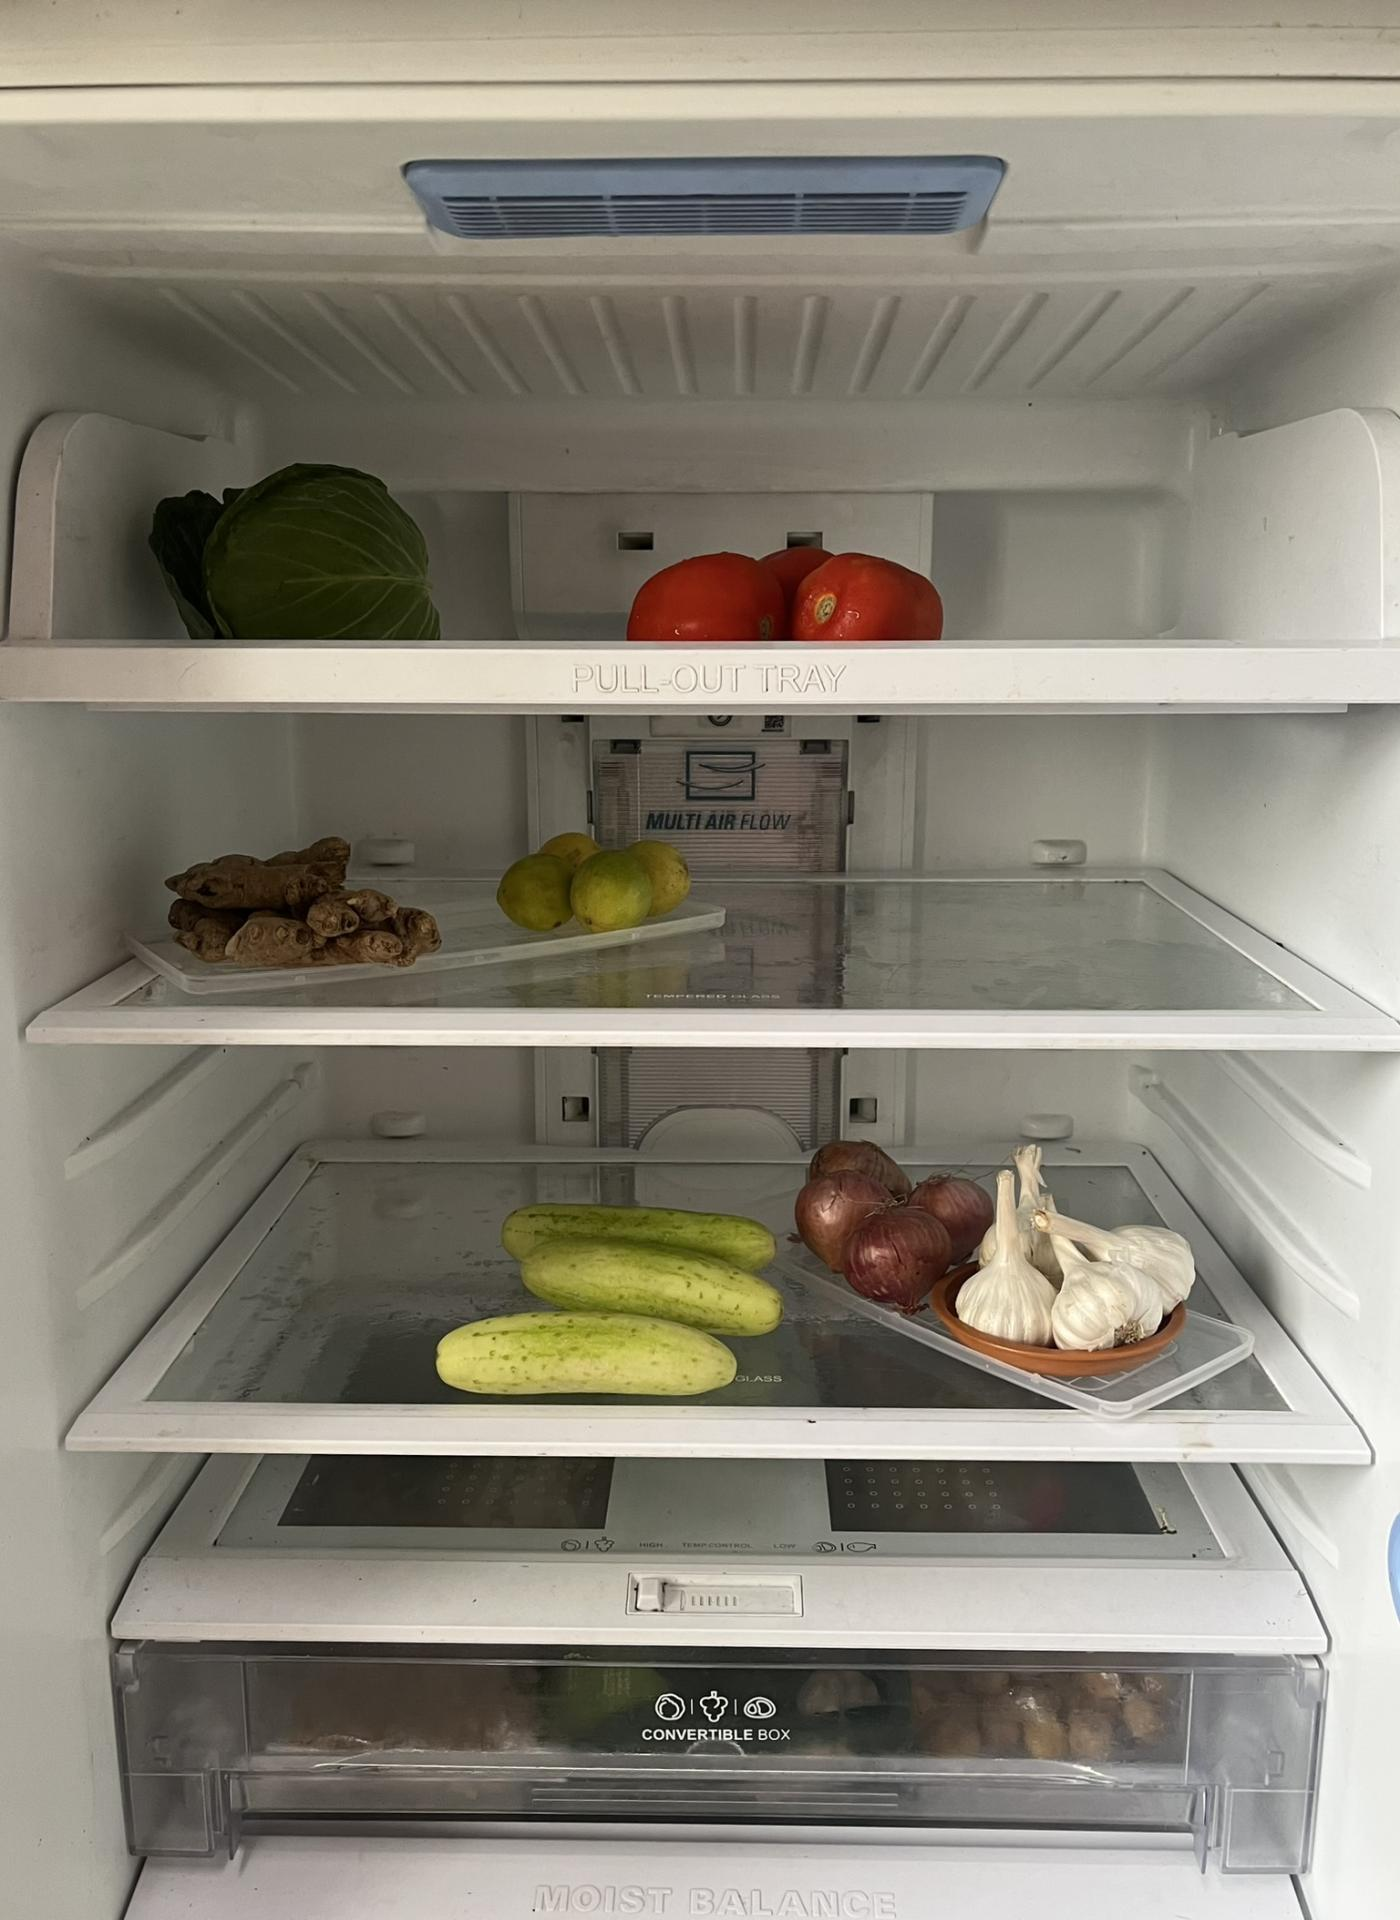cabbage: (158, 462, 434, 638)
cucumber: (504, 1200, 793, 1325), (431, 1306, 747, 1400)
garlic: (957, 1146, 1191, 1354)
ginger: (167, 829, 447, 966)
lemon: (501, 830, 696, 926)
onion: (796, 1131, 994, 1303)
tomato: (635, 544, 945, 644)
